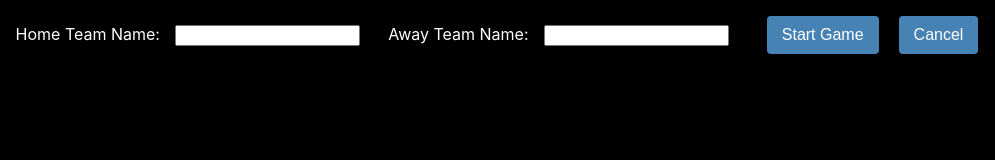
displays error message when starting the game without entering team names
The image size is (995, 160).
Click the button "Start Game" at (823, 35), box [767,16,879,54]
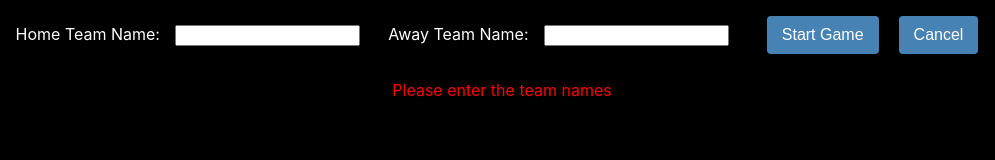
Expected: the text "Please enter the team names" is shown, [392,80,612,100]
